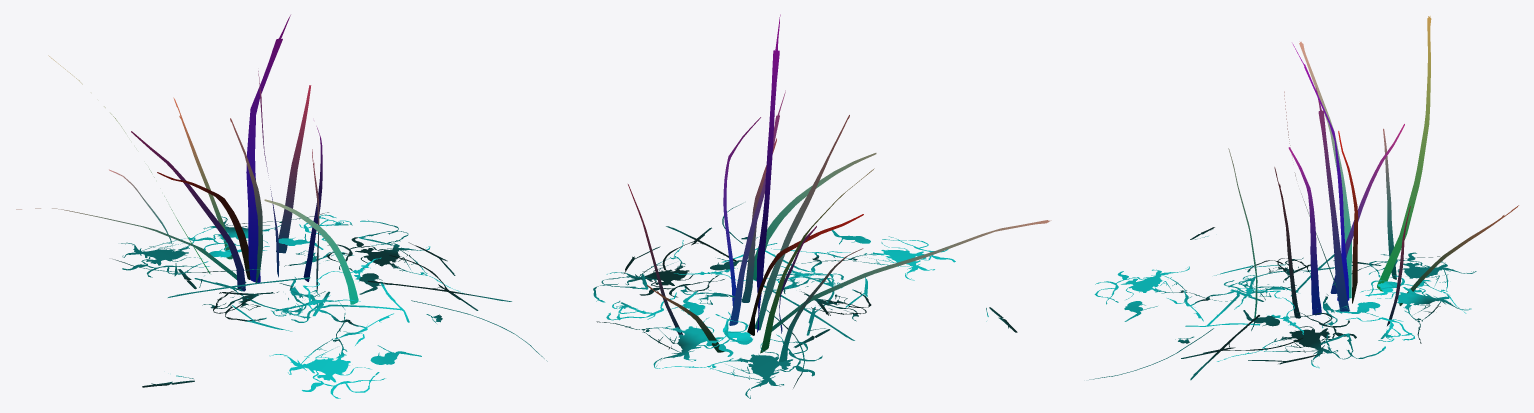
File: Wild_Grass_vczndjqja_Raw_vczndjqja_VarC_LOD0.fbx
3 views of the same model, side by side, from view 1: azimuth 30°, elevation 25°; view 2: azimuth 150°, elevation 25°; view 3: azimuth 270°, elevation 25° (orthographic). The views are drawn at different scales.
Visible parts, largest first — view 1: _72oh_VarC_High; view 2: _72oh_VarC_High; view 3: _72oh_VarC_High.
Part boxes in pixels (box(x1,y1,x2,y2)): _72oh_VarC_High: box(16, 15, 547, 398); _72oh_VarC_High: box(593, 14, 1051, 398); _72oh_VarC_High: box(1089, 16, 1518, 380).
Size of the model in its own units: 51.48 by 30.91 by 44.41.
